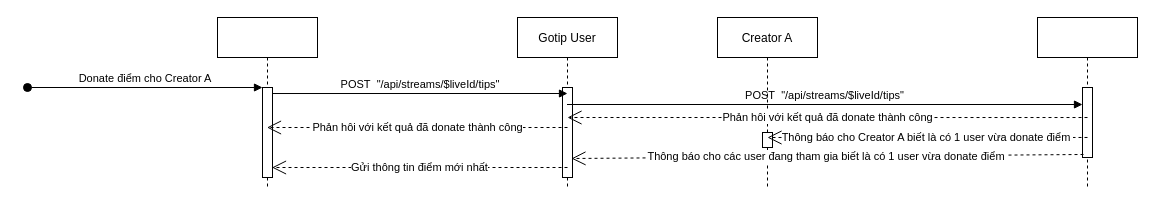
Some shapes in this 1155 by 205 pixel diagram are drawn without their labels. The shapes that lost their labels are listed below. From the top down, each one's centre as x and y in pixels, then its label:
(x=267, y=102): Smart Watch App
(x=1087, y=102): Server
